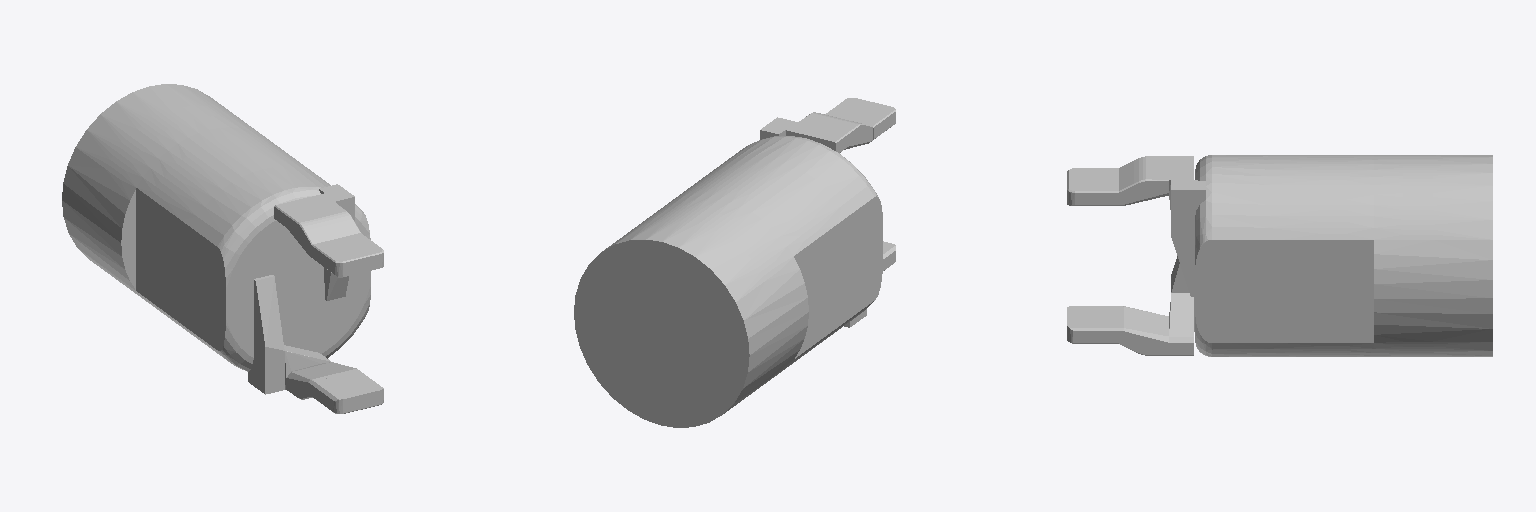
The model's file is gripper.obj.
3 views of the same model, side by side, from view 1: azimuth 30°, elevation 25°; view 2: azimuth 150°, elevation 25°; view 3: azimuth 270°, elevation 25° (orthographic).
Parts seen in each view (by area): view 1: Robotiq_Hande_Finger_C01; view 2: Robotiq_Hande_Finger_C01; view 3: Robotiq_Hande_Finger_C01.
Part boxes in pixels (x1,y1,x2,y2): Robotiq_Hande_Finger_C01: (62, 84, 383, 413); Robotiq_Hande_Finger_C01: (574, 98, 895, 427); Robotiq_Hande_Finger_C01: (1067, 155, 1492, 356).
Size of the model in its own units: 0.075 by 0.075 by 0.1571.